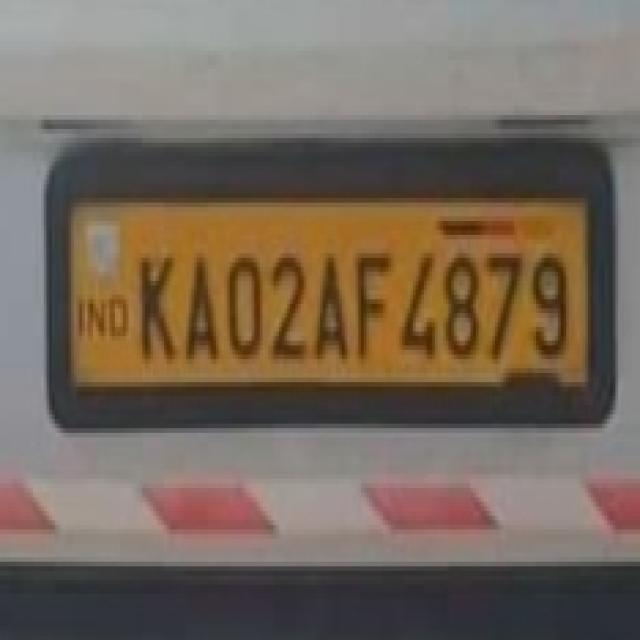0: (226, 240, 265, 372)
4: (399, 247, 442, 374)
7: (486, 251, 527, 368)
8: (444, 248, 482, 376)
9: (531, 248, 572, 374)
A: (312, 238, 353, 372), (181, 242, 222, 372)
F: (353, 244, 397, 368)
K: (136, 239, 180, 367)
